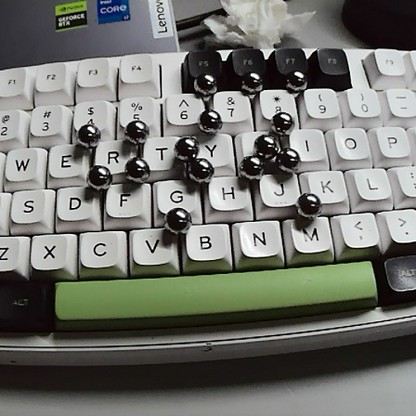ironball: (168, 128, 209, 163), (70, 115, 101, 154), (159, 204, 200, 233), (273, 146, 304, 176), (84, 161, 111, 195), (116, 154, 147, 183), (266, 105, 295, 136), (248, 128, 277, 158), (295, 186, 320, 218), (121, 117, 148, 146), (238, 155, 266, 182), (282, 65, 309, 92), (196, 108, 220, 137), (189, 160, 212, 190), (240, 71, 264, 96), (194, 71, 217, 95)
